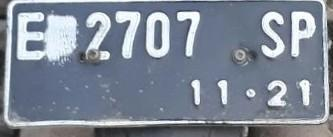0: (138, 8, 172, 61)
2: (73, 10, 114, 66)
7: (172, 8, 208, 61), (110, 9, 144, 63)
E: (16, 11, 47, 66)
P: (287, 9, 320, 61)
S: (251, 9, 294, 62)
